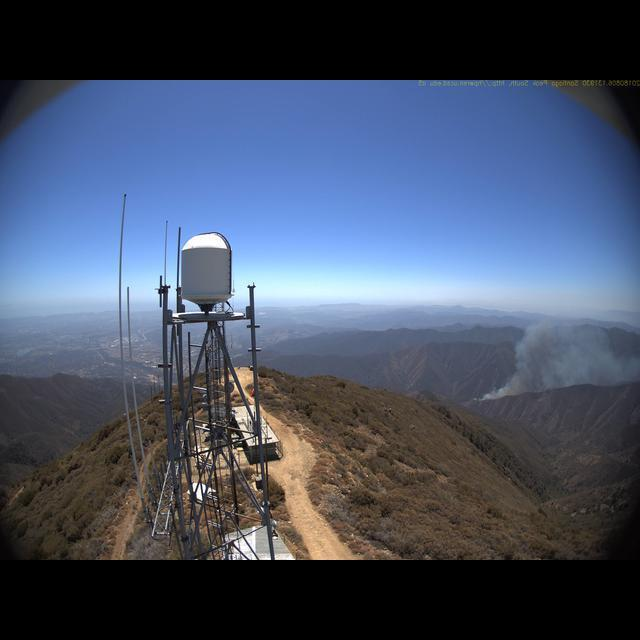Smoke: (483, 308, 639, 405)
